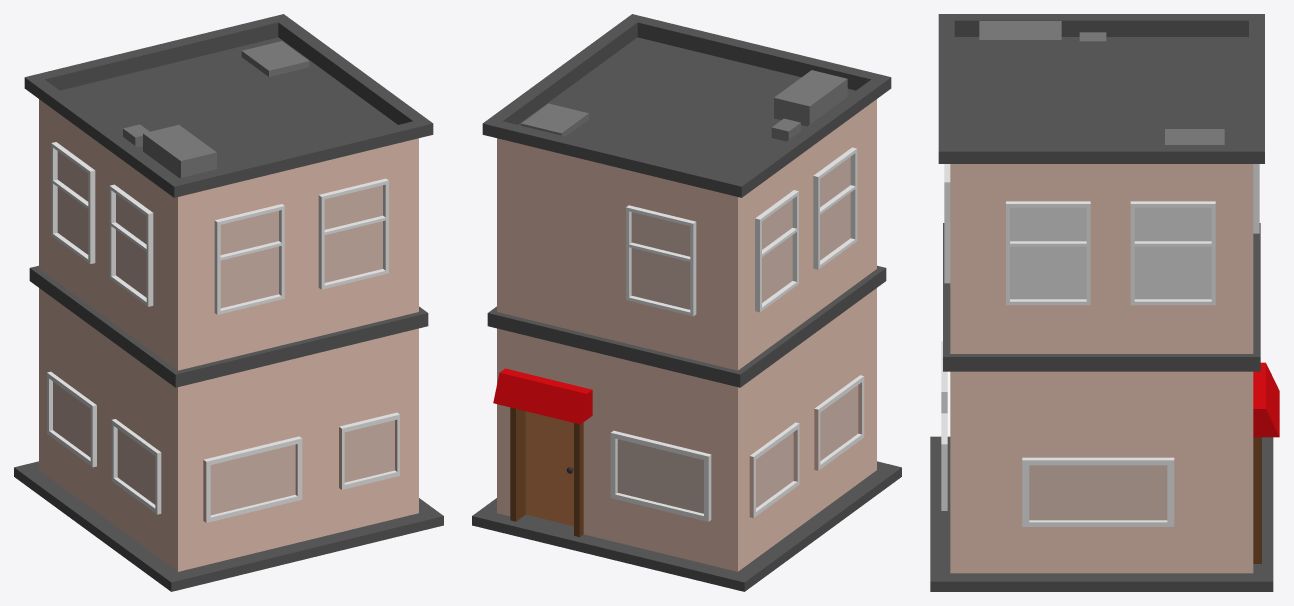
File: House.glb
3 renders of one model, left to right at view 1: azimuth 30°, elevation 25°; view 2: azimuth 150°, elevation 25°; view 3: azimuth 270°, elevation 25°, orthographic. The views are drawn at different scales.
Parts seen in each view (by area): view 1: Cube; view 2: Cube; view 3: Cube.
Boxes of the visible parts, x1,y1,x2,y2 form: Cube: [14, 14, 443, 591]; Cube: [472, 14, 901, 591]; Cube: [930, 14, 1279, 591].
Size of the model in its own units: 9.59 by 13.68 by 9.77.
